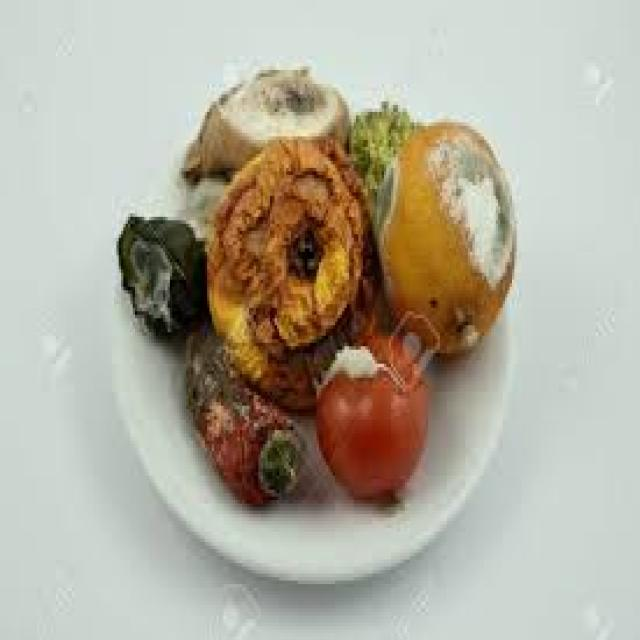biodegradable: (200, 137, 384, 403), (370, 116, 512, 354), (181, 332, 305, 500), (314, 322, 426, 497), (179, 66, 347, 182), (114, 210, 203, 336), (345, 102, 417, 221), (184, 172, 230, 228)
